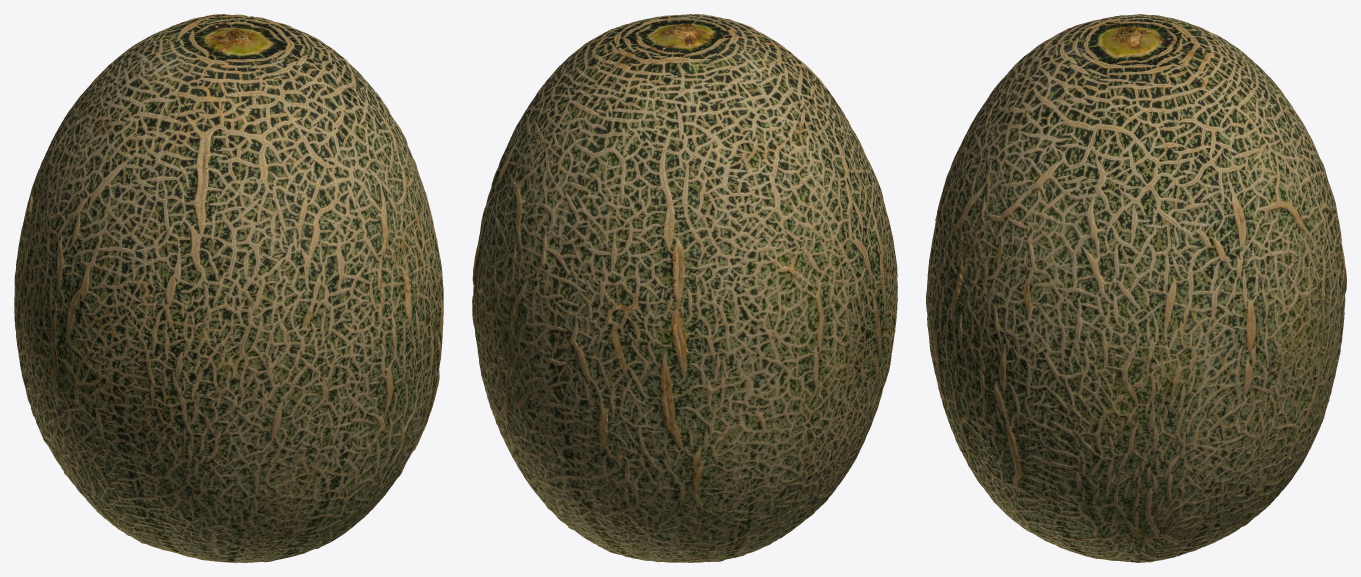
The model's file is cantaloupe.glb.
3 renders of one model, left to right at view 1: azimuth 30°, elevation 25°; view 2: azimuth 150°, elevation 25°; view 3: azimuth 270°, elevation 25°, orthographic.
Parts seen in each view (by area): view 1: fruitai_marime_reala; view 2: fruitai_marime_reala; view 3: fruitai_marime_reala.
Boxes of the visible parts, x1,y1,x2,y2 form: fruitai_marime_reala: (14,14,443,562); fruitai_marime_reala: (472,14,897,562); fruitai_marime_reala: (926,14,1346,562).
Bounding box in the file's own units: 0.1294 × 0.17 × 0.1273.
4 materials, 4 textured.
